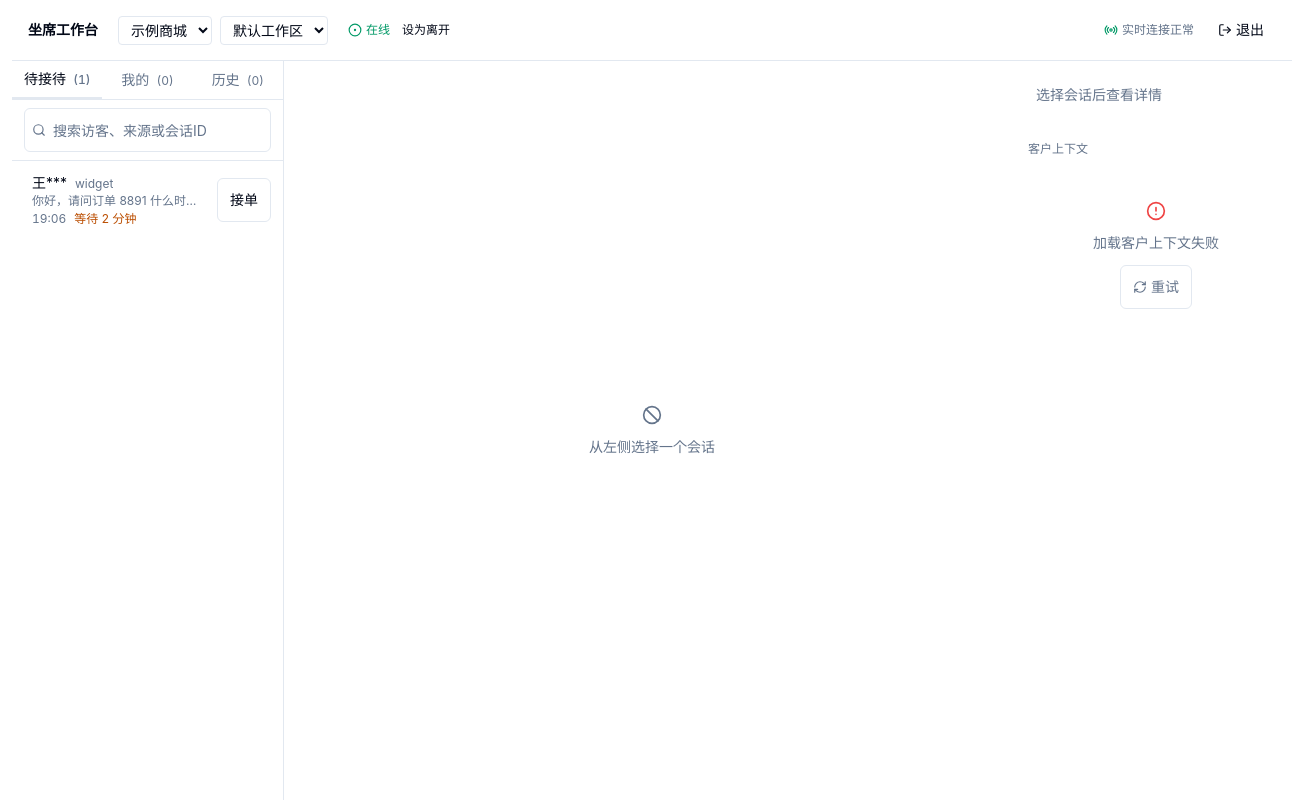
Test case: seat org/ws 切换器（SeatWorkspacePage header，F12） › 切换 ws：会话列表按新 workspace 重载（queue 带 workspace_id）、组织不变、SSE 流随 scope 重建
This screenshot has width=1292, height=800.
Expected: the tab with test id "seat-tab-queued" shows "1", [12,61,102,99]
Step 1. Select "售前工作区" in the dropdown with test id "seat-ws-select" → (274, 30), box [220,16,328,44]
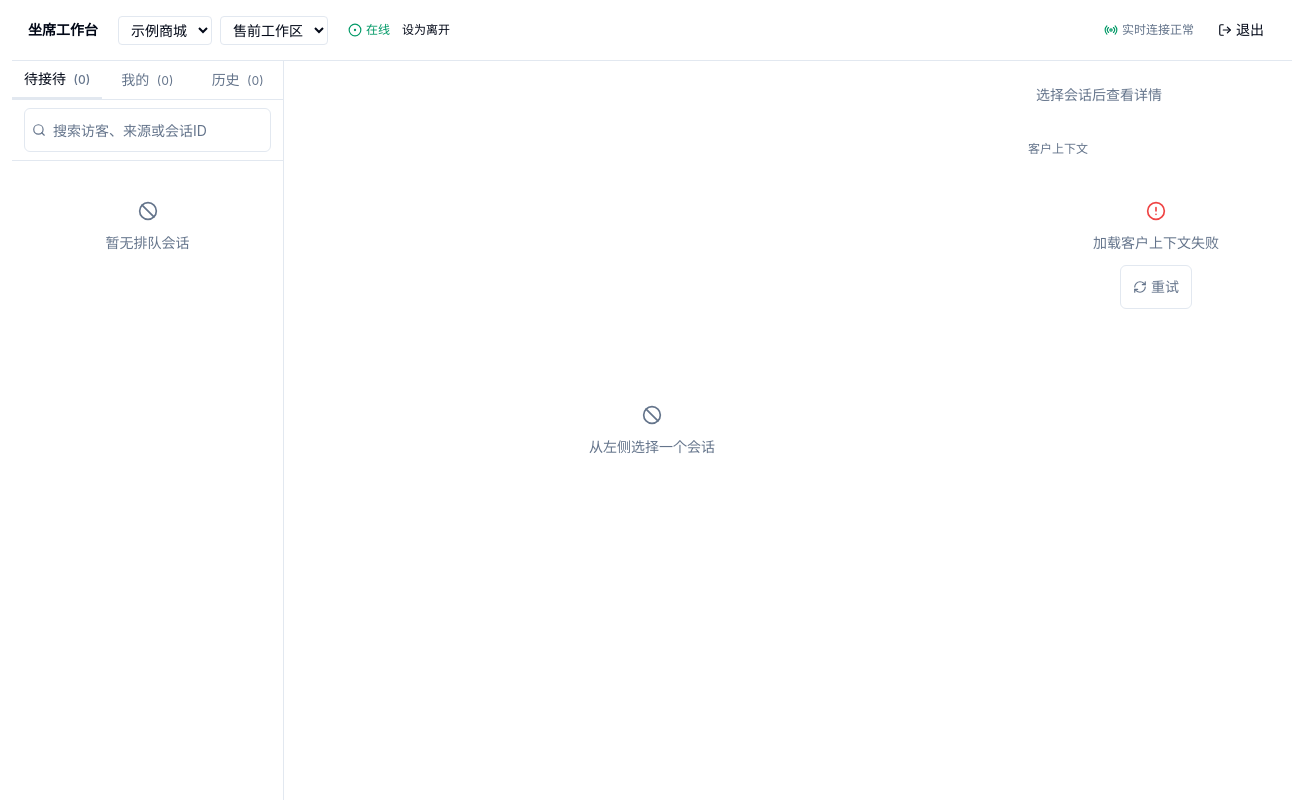
Expected: the dropdown with test id "seat-org-select" shows "示例商城", [118,16,212,44]
Result: the tab with test id "seat-tab-queued" shows "0" at [12,61,102,99]
